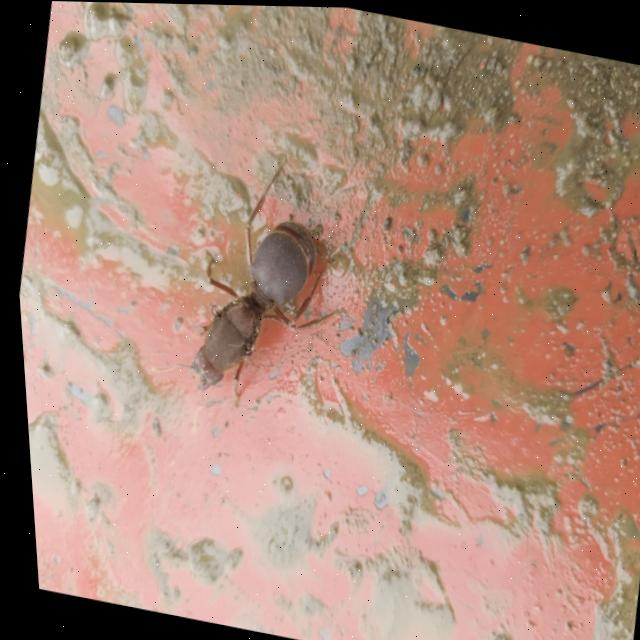Alive-Female-Dealate: (123, 131, 375, 459)
